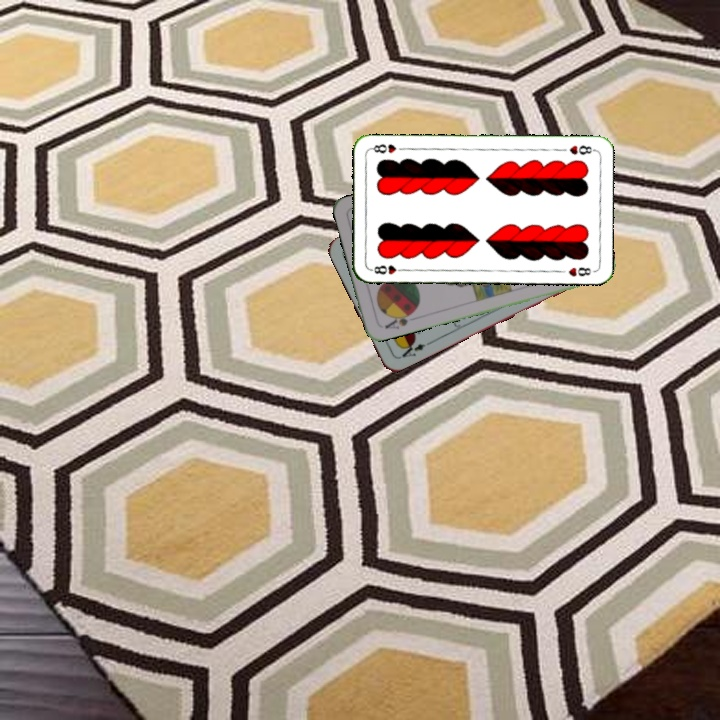EA: (396, 337, 433, 360)
H8: (367, 261, 408, 277), (565, 141, 597, 157)
SA: (381, 307, 417, 332)
